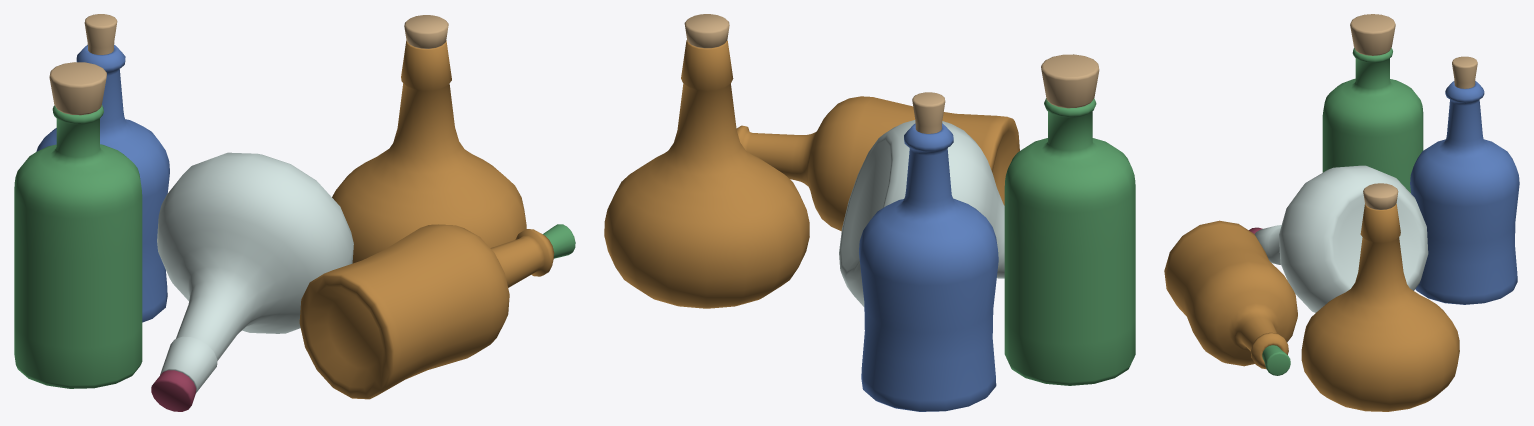
File: Bottle_set_1.glb
3 renders of one model, left to right at view 1: azimuth 30°, elevation 25°; view 2: azimuth 150°, elevation 25°; view 3: azimuth 270°, elevation 25°, orthographic. The views are drawn at different scales.
Visible parts, largest first — view 1: Bottle_set_1, Bottle_set_1.007, Bottle_set_1.009, Bottle_set_1.004, Bottle_set_1.005, Bottle_set_1.003, Bottle_set_1.006, Bottle_set_1.001, Bottle_set_1.002, Bottle_set_1.008; view 2: Bottle_set_1, Bottle_set_1.004, Bottle_set_1.005, Bottle_set_1.009, Bottle_set_1.007, Bottle_set_1.003, Bottle_set_1.001, Bottle_set_1.002; view 3: Bottle_set_1.004, Bottle_set_1.005, Bottle_set_1.009, Bottle_set_1.007, Bottle_set_1, Bottle_set_1.003, Bottle_set_1.001, Bottle_set_1.002, Bottle_set_1.008.
Part boxes in pixels (bbox=[...]): Bottle_set_1: bbox=[14, 105, 142, 388]; Bottle_set_1.007: bbox=[157, 152, 353, 392]; Bottle_set_1.009: bbox=[299, 224, 554, 399]; Bottle_set_1.004: bbox=[332, 40, 526, 263]; Bottle_set_1.005: bbox=[36, 45, 169, 322]; Bottle_set_1.003: bbox=[49, 62, 106, 115]; Bottle_set_1.006: bbox=[151, 370, 196, 411]; Bottle_set_1.001: bbox=[404, 15, 448, 48]; Bottle_set_1.002: bbox=[84, 14, 117, 54]; Bottle_set_1.008: bbox=[543, 224, 575, 258]; Bottle_set_1: bbox=[1004, 98, 1135, 385]; Bottle_set_1.004: bbox=[604, 40, 809, 308]; Bottle_set_1.005: bbox=[859, 123, 998, 411]; Bottle_set_1.009: bbox=[736, 96, 1019, 231]; Bottle_set_1.007: bbox=[839, 120, 1004, 306]; Bottle_set_1.003: bbox=[1041, 54, 1099, 108]; Bottle_set_1.001: bbox=[684, 14, 729, 48]; Bottle_set_1.002: bbox=[912, 92, 945, 133]; Bottle_set_1.004: bbox=[1301, 203, 1459, 411]; Bottle_set_1.005: bbox=[1410, 81, 1519, 304]; Bottle_set_1.009: bbox=[1164, 220, 1297, 369]; Bottle_set_1.007: bbox=[1254, 165, 1428, 312]; Bottle_set_1: bbox=[1322, 48, 1423, 192]; Bottle_set_1.003: bbox=[1350, 14, 1395, 55]; Bottle_set_1.001: bbox=[1363, 183, 1398, 209]; Bottle_set_1.002: bbox=[1452, 56, 1477, 88]; Bottle_set_1.008: bbox=[1262, 345, 1290, 375].
Size of the model in its own units: 0.5882 by 0.331 by 0.464.
